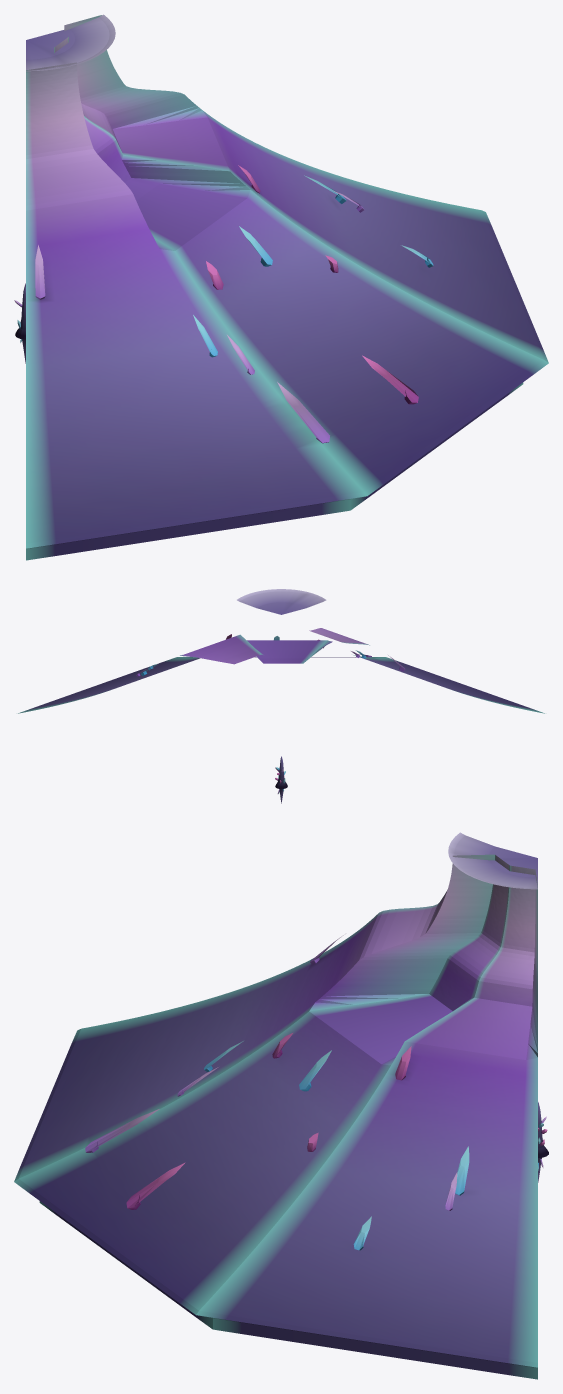
Rendered from caverns-s1-BRnwLjG4.glb.
3 views of the same model, one above another, from view 1: azimuth 30°, elevation 25°; view 2: azimuth 150°, elevation 25°; view 3: azimuth 270°, elevation 25° (orthographic). The views are drawn at different scales.
Parts seen in each view (by area): view 1: sc_landmark_2; view 2: sc_landmark_2; view 3: sc_landmark_2.
Boxes of the visible parts, left/top/right/bottom form: sc_landmark_2: left=26, top=14, right=548, bottom=560; sc_landmark_2: left=18, top=589, right=544, bottom=713; sc_landmark_2: left=14, top=832, right=537, bottom=1379.
Size of the model in its own units: 648 by 298 by 435.
